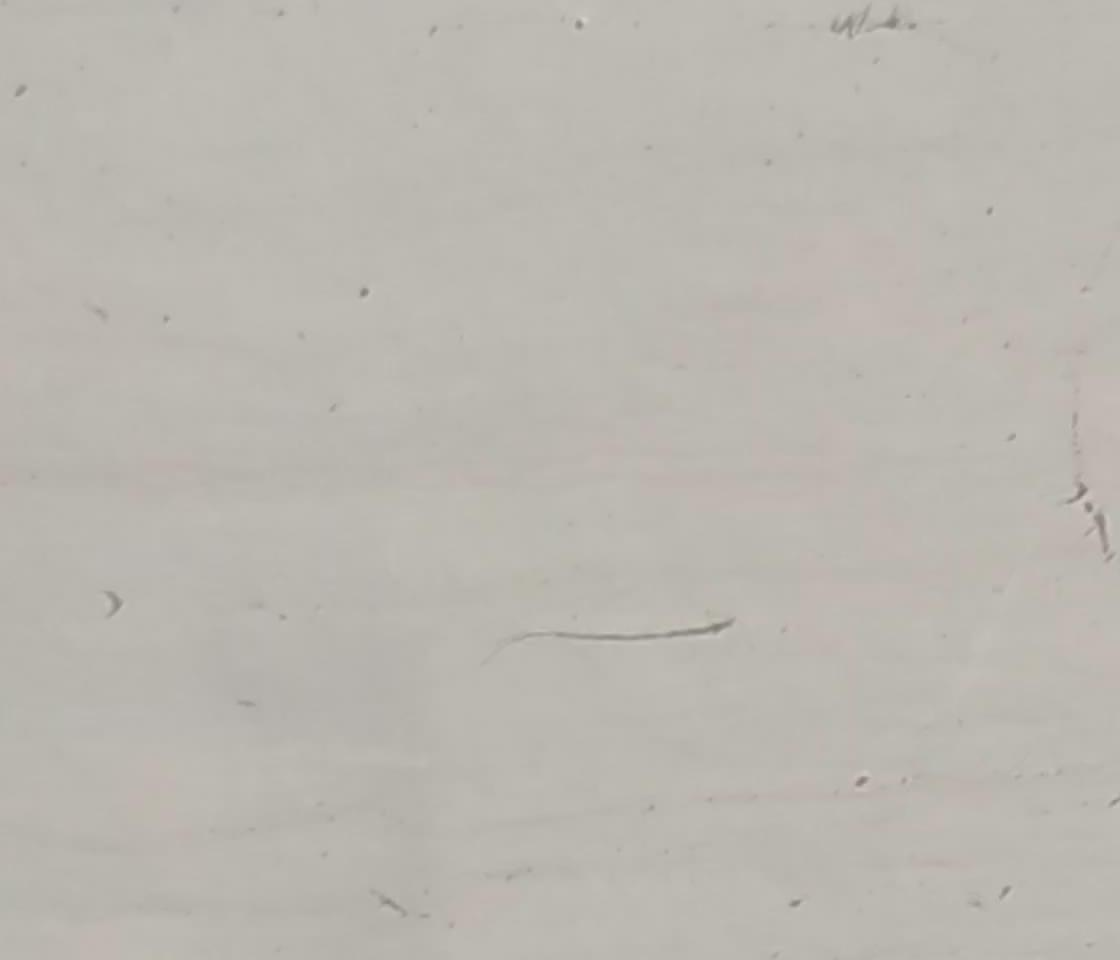scratch: (500, 614, 746, 650)
